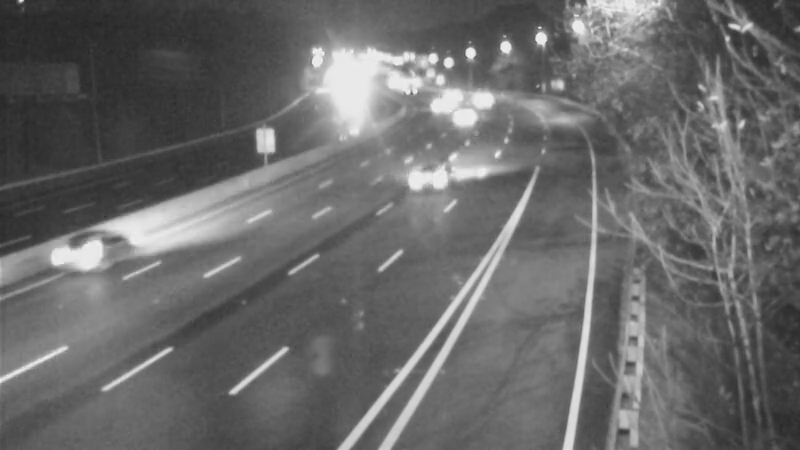vehicle: (392, 134, 472, 214), (34, 216, 114, 296), (437, 91, 487, 141)
